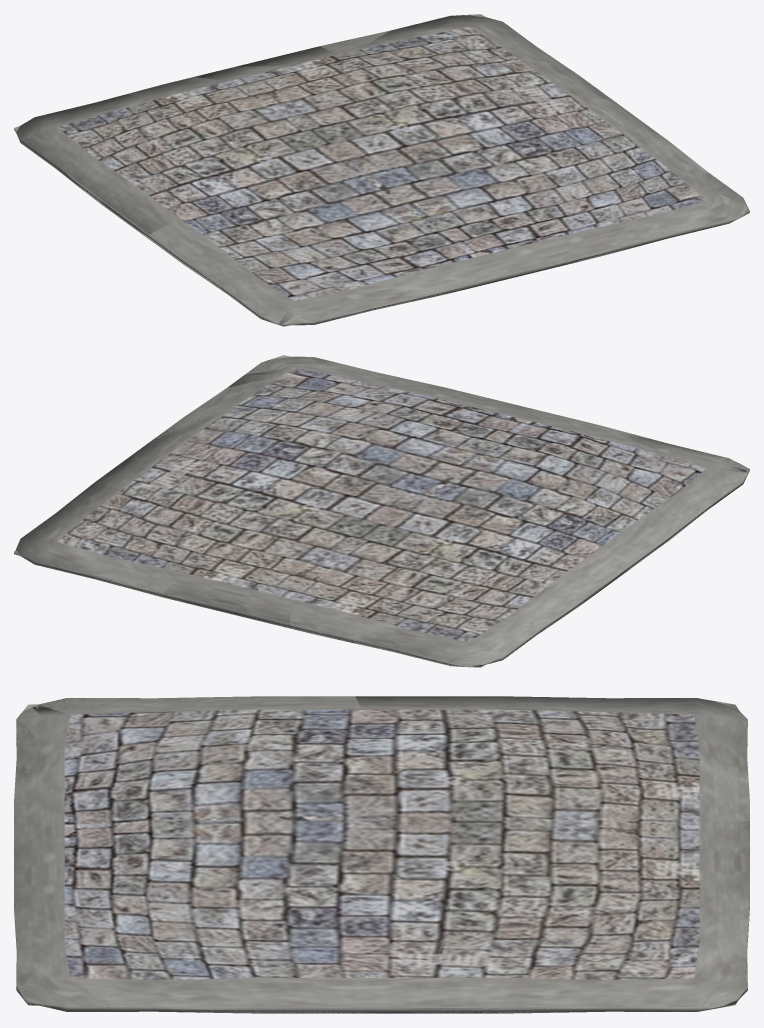
Rendered from plate02_10.fbx.
3 views of the same model, one above another, from view 1: azimuth 30°, elevation 25°; view 2: azimuth 150°, elevation 25°; view 3: azimuth 270°, elevation 25° (orthographic). The views are drawn at different scales.
Visible parts, largest first — view 1: Cube, Cube_cell.002, Cube_cell.007, Cube_cell.009, Cube_cell.005, Cube_cell.001, Cube_cell.004, Cube_cell.003, Cube_cell; view 2: Cube, Cube_cell.002, Cube_cell.009, Cube_cell.007, Cube_cell.001, Cube_cell.005, Cube_cell.004, Cube_cell; view 3: Cube, Cube_cell.002, Cube_cell.009, Cube_cell.005, Cube_cell.001, Cube_cell.007, Cube_cell.004, Cube_cell, Cube_cell.003.
Boxes of the visible parts, x1,y1,x2,y2 form: Cube: [66, 14, 749, 326]; Cube_cell.002: [14, 94, 327, 236]; Cube_cell.007: [44, 15, 746, 326]; Cube_cell.009: [357, 14, 611, 106]; Cube_cell.005: [194, 65, 484, 136]; Cube_cell.001: [128, 77, 397, 168]; Cube_cell.004: [235, 46, 386, 68]; Cube_cell.003: [568, 186, 748, 263]; Cube_cell: [579, 172, 726, 232]; Cube: [65, 355, 749, 667]; Cube_cell.002: [355, 512, 634, 667]; Cube_cell.009: [14, 459, 223, 590]; Cube_cell.007: [17, 355, 747, 666]; Cube_cell.001: [290, 503, 431, 643]; Cube_cell.005: [191, 488, 331, 623]; Cube_cell.004: [148, 545, 249, 613]; Cube_cell: [227, 375, 345, 389]; Cube: [14, 696, 749, 1013]; Cube_cell.002: [355, 696, 748, 804]; Cube_cell.009: [414, 904, 749, 1011]; Cube_cell.005: [427, 821, 749, 923]; Cube_cell.001: [384, 775, 749, 858]; Cube_cell.007: [16, 698, 749, 1013]; Cube_cell.004: [625, 846, 749, 905]; Cube_cell: [81, 942, 413, 1013]; Cube_cell.003: [14, 904, 110, 1011].
Size of the model in its own units: 401 by 20.47 by 402.
